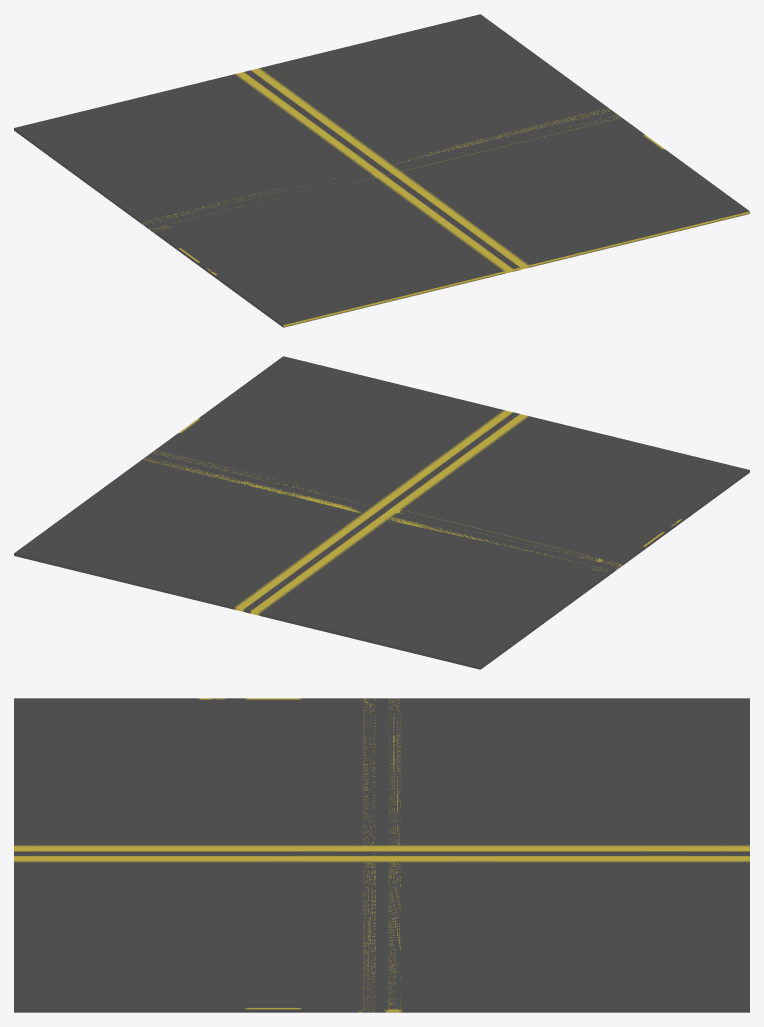
Rendered from centre.glb.
3 views of the same model, one above another, from view 1: azimuth 30°, elevation 25°; view 2: azimuth 150°, elevation 25°; view 3: azimuth 270°, elevation 25° (orthographic). The views are drawn at different scales.
Visible parts, largest first — view 1: Plane.023; view 2: Plane.023; view 3: Plane.023.
Boxes of the visible parts, bbox=[...] form: Plane.023: bbox=[14, 14, 749, 327]; Plane.023: bbox=[14, 356, 749, 669]; Plane.023: bbox=[14, 698, 749, 1012].
Size of the model in its own units: 15 by 0.0792 by 15.
